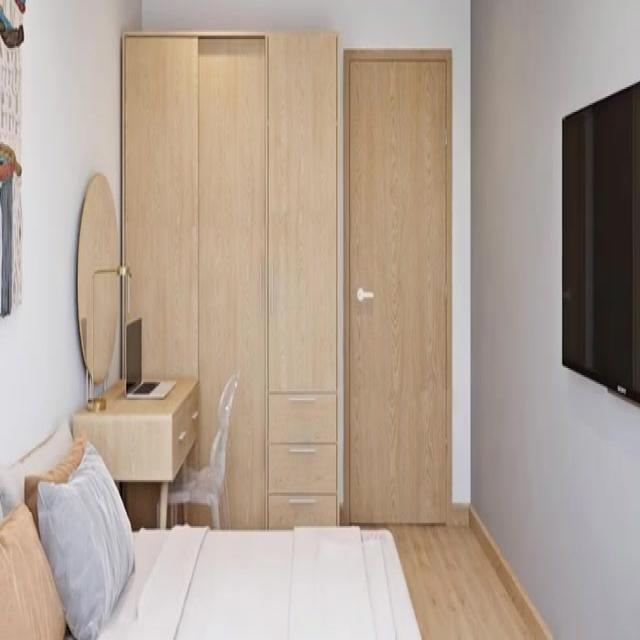door: (344, 48, 450, 524)
obstacle: (120, 28, 339, 530), (0, 418, 423, 638), (71, 373, 199, 528), (160, 368, 240, 530)
